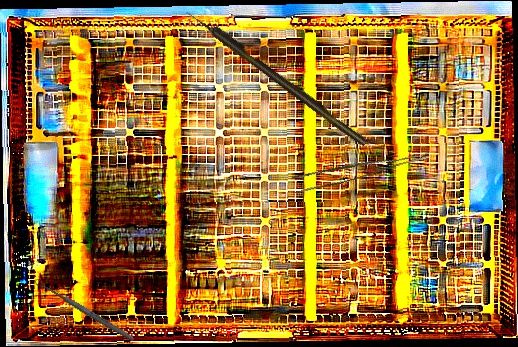Hook Surgical: (184, 5, 369, 149)
Surgical Spoon: (32, 277, 137, 343)
Tissue Forceps: (290, 137, 431, 198)
